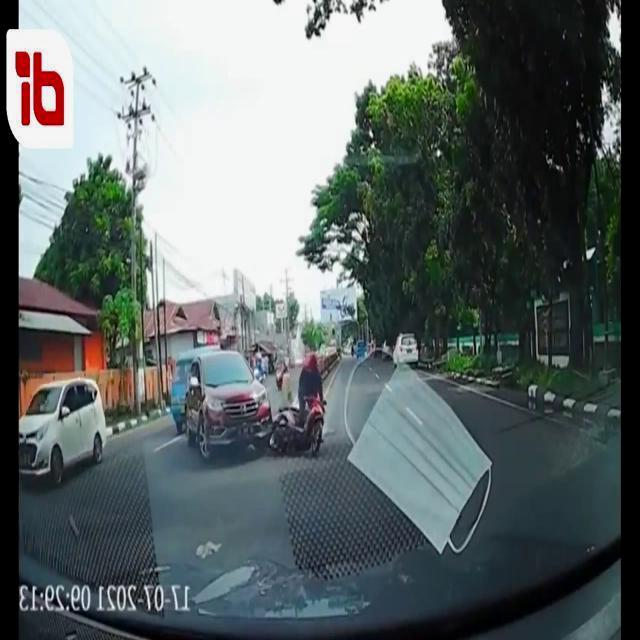accident: (180, 346, 330, 464)
non-accident: (352, 329, 422, 371)
